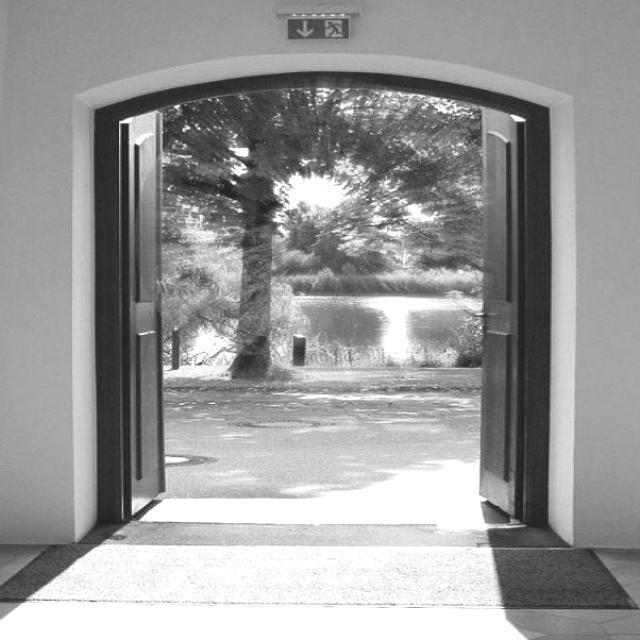door: (468, 89, 536, 526), (102, 99, 168, 524)
